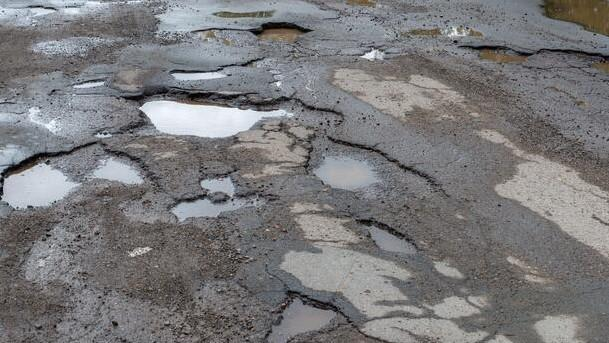pothole: (0, 138, 149, 214), (304, 129, 452, 201), (128, 87, 299, 144), (166, 167, 276, 226), (250, 290, 341, 343), (450, 44, 609, 71), (357, 215, 420, 257), (406, 20, 479, 42), (252, 20, 311, 45), (204, 5, 276, 23), (351, 43, 394, 67), (168, 67, 230, 83), (332, 0, 392, 13), (23, 4, 61, 21), (73, 75, 112, 91), (269, 65, 290, 91)
